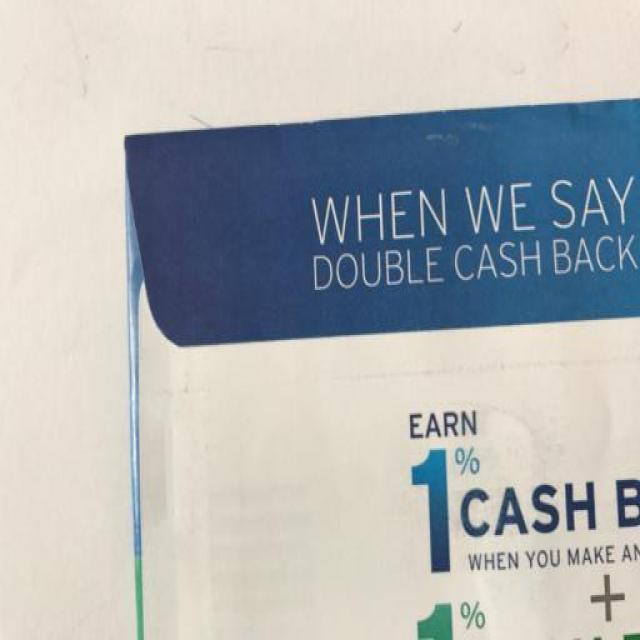paper: (100, 110, 640, 640)
